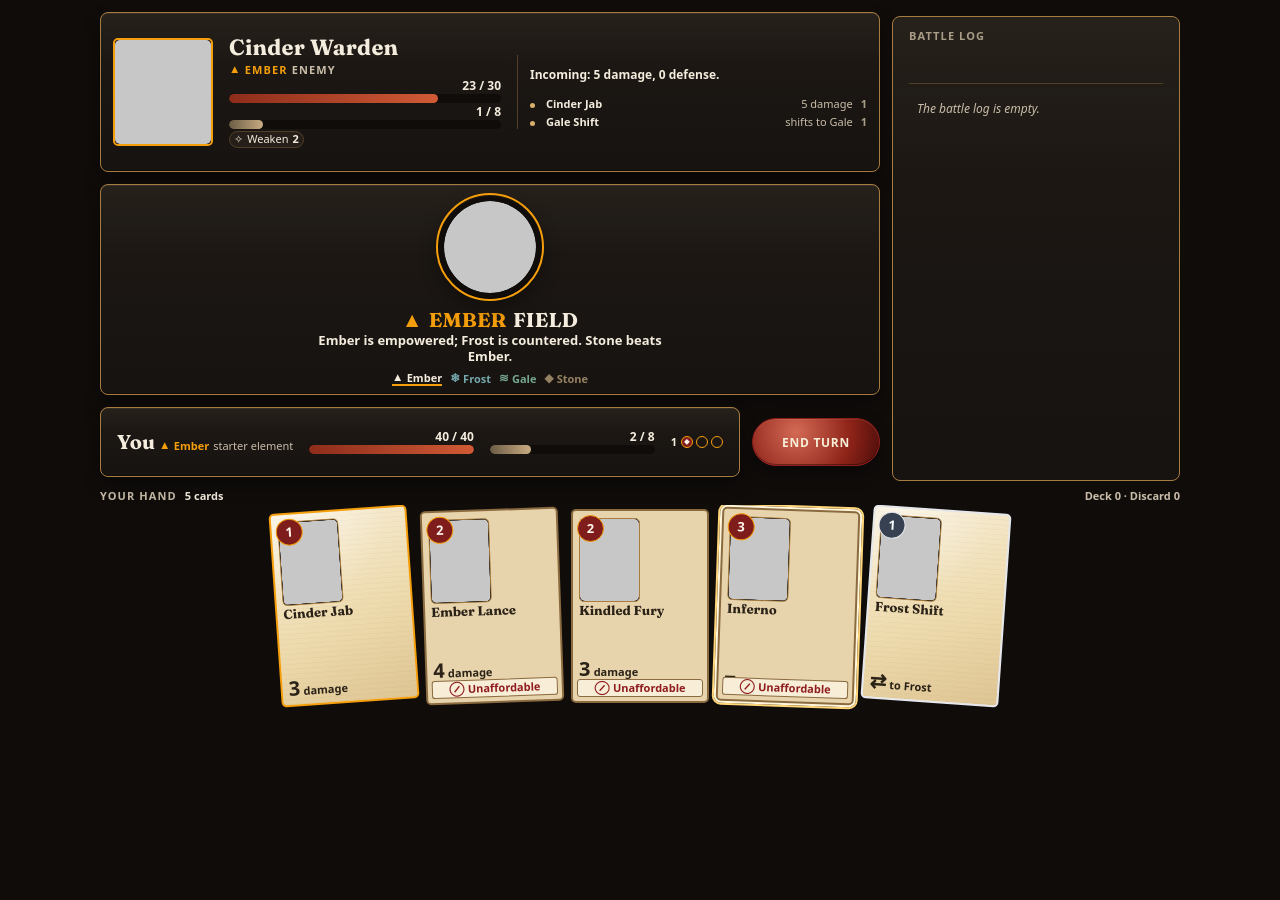
it: BattleBoard card detail › keeps an unaffordable card focusable and inspectable
The image size is (1280, 900).
Click the button with aria-label "3 energy, Inferno, Ember attack, 7 damage, unaffordable": coordinates (788, 606) left=716, top=507, right=860, bottom=705
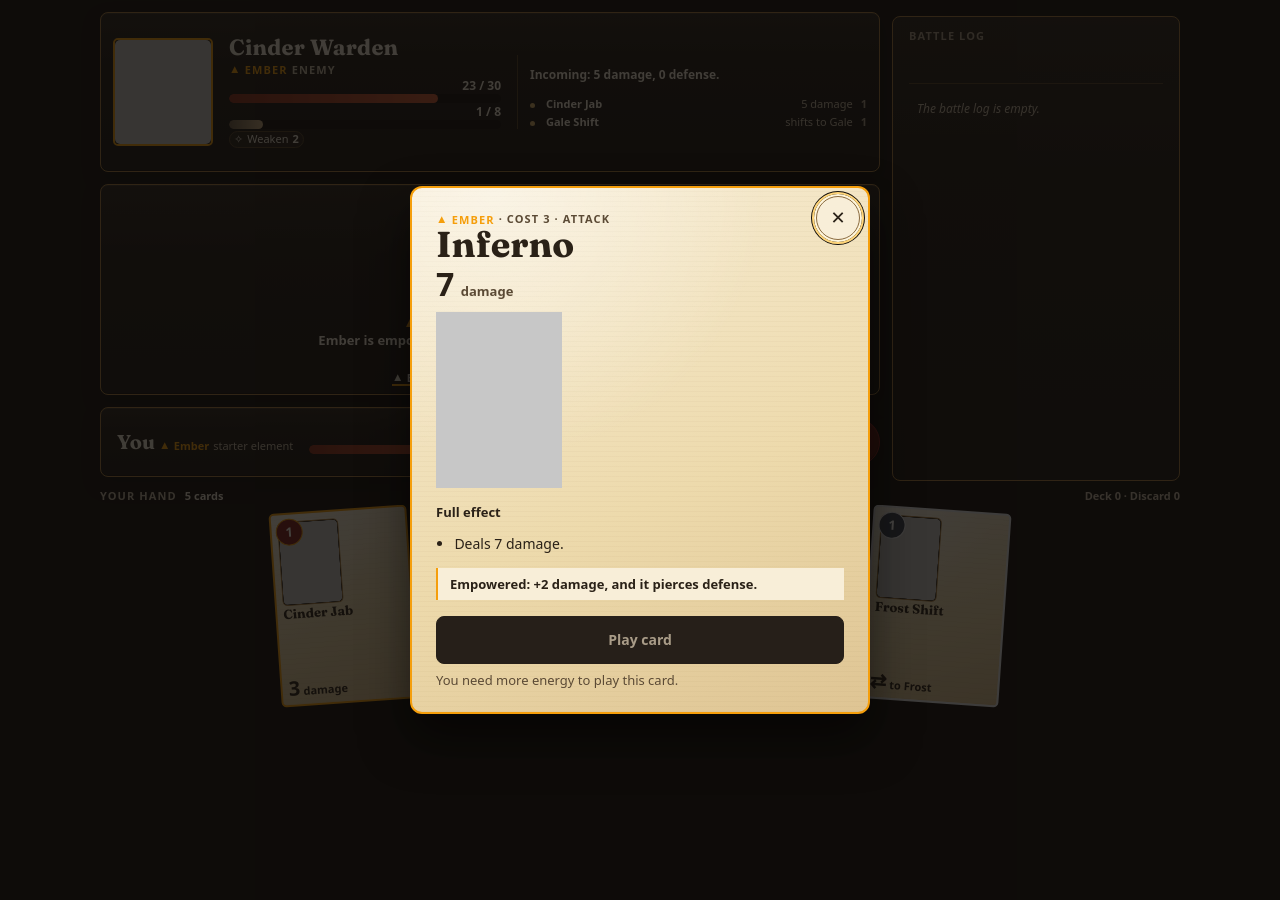
Now the button "Play card" is disabled, box left=436, top=616, right=844, bottom=664
Now the text "You need more energy to play this card." is shown, box left=436, top=671, right=678, bottom=689
Click the button named "Close card detail": coordinates (838, 218) left=816, top=196, right=860, bottom=240
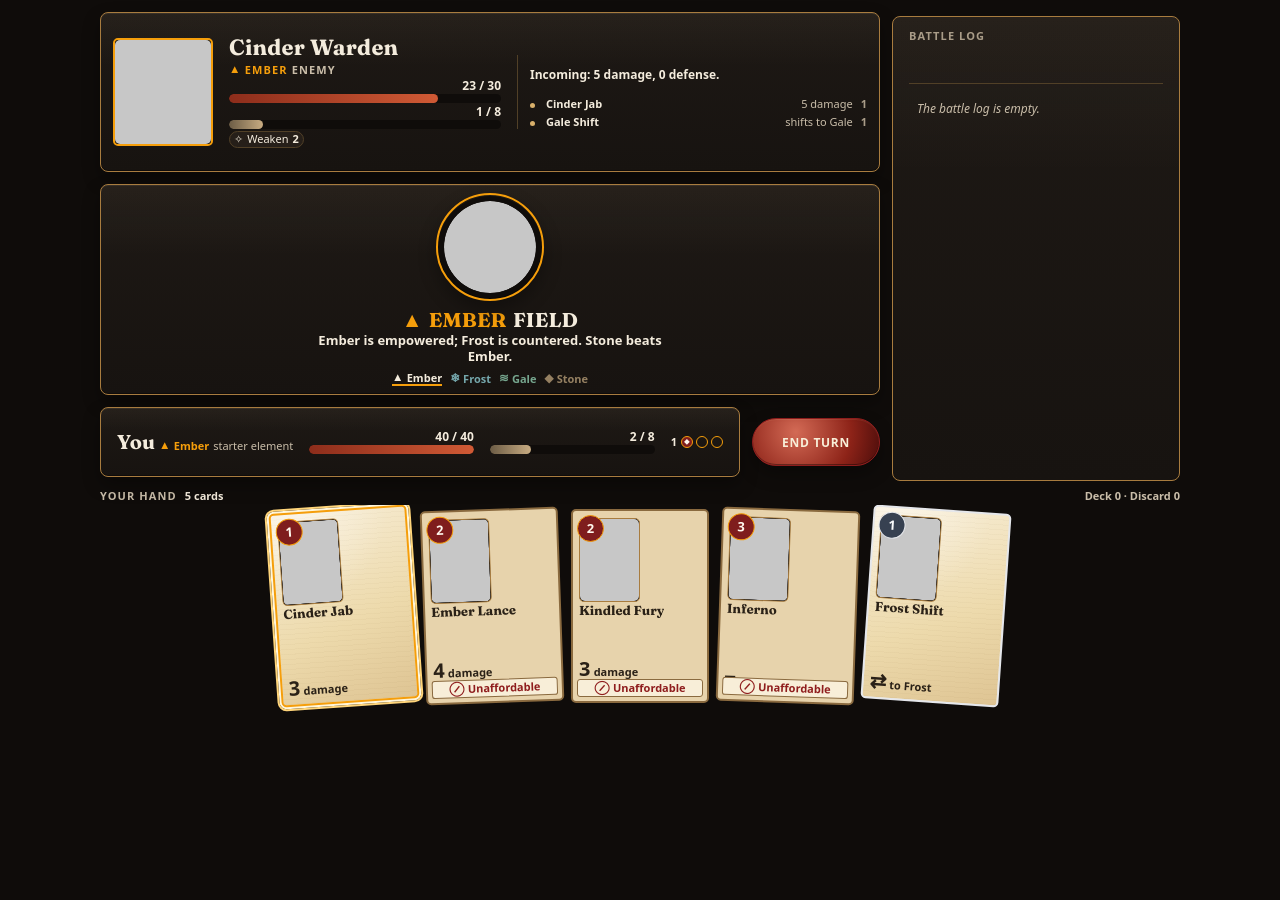
Now the dialog is gone
